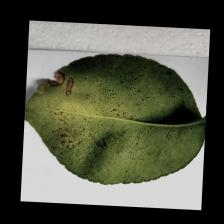canker: (59, 113, 111, 162)
